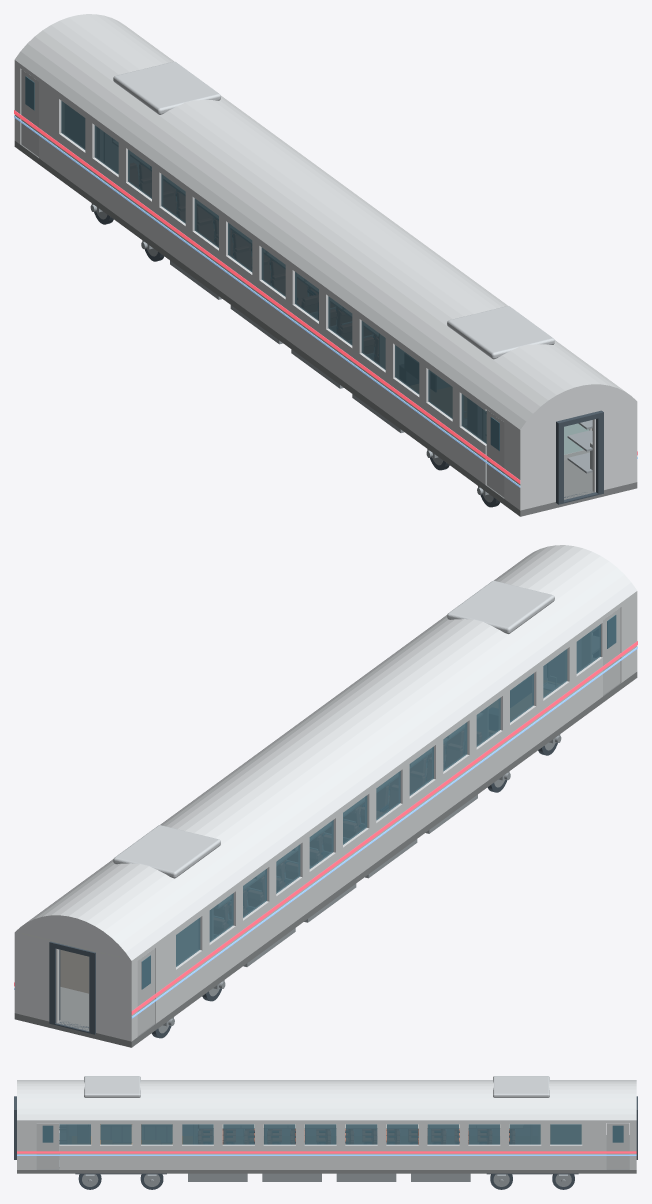
File: standard.glb
The picture shows the model from 3 angles, top to bottom: view 1: azimuth 30°, elevation 25°; view 2: azimuth 150°, elevation 25°; view 3: azimuth 270°, elevation 25°; orthographic projection. The views are drawn at different scales.
Visible parts, largest first — view 1: StandardRoofShell, StandardWallN1, StandardGlassN1, StandardEnd001, StandardFloor, StandardStripeN1, StandardHVAC, StandardHVAC001, StandardRoofEnd001, StandardGangway001, StandardDoorN1_1, StandardDoorN1_0 (+2 smaller); view 2: StandardRoofShell, StandardWallN1, StandardGlassN1, StandardEnd, StandardFloor, StandardStripeN1, StandardHVAC001, StandardHVAC, StandardRoofEnd, StandardGangway, StandardDoorN1_1, StandardDoorN1_0 (+2 smaller); view 3: StandardRoofShell, StandardWall1, StandardGlass1, StandardStripe1, StandardFloor, StandardUnderfloor, StandardHVAC001, StandardHVAC, StandardDoor1_0, StandardDoor1_1, StandardBogie1, StandardBogie0 (+1 smaller).
Boxes of the visible parts, left/top/right/bottom form: StandardRoofShell: left=14, top=14, right=636, bottom=429; StandardWallN1: left=14, top=60, right=524, bottom=510; StandardGlassN1: left=61, top=101, right=486, bottom=443; StandardEnd001: left=518, top=402, right=637, bottom=509; StandardFloor: left=14, top=141, right=637, bottom=516; StandardStripeN1: left=14, top=110, right=520, bottom=487; StandardHVAC: left=113, top=61, right=220, bottom=114; StandardHVAC001: left=447, top=306, right=554, bottom=359; StandardRoofEnd001: left=518, top=383, right=636, bottom=429; StandardGangway001: left=556, top=410, right=603, bottom=504; StandardDoorN1_1: left=486, top=410, right=504, bottom=497; StandardDoorN1_0: left=21, top=69, right=38, bottom=156; StandardRoofShell: left=15, top=545, right=637, bottom=960; StandardWallN1: left=127, top=591, right=637, bottom=1041; StandardGlassN1: left=176, top=624, right=600, bottom=966; StandardEnd: left=14, top=933, right=133, bottom=1040; StandardFloor: left=14, top=672, right=637, bottom=1047; StandardStripeN1: left=131, top=641, right=637, bottom=1018; StandardHVAC001: left=447, top=580, right=554, bottom=634; StandardHVAC: left=113, top=825, right=220, bottom=878; StandardRoofEnd: left=17, top=914, right=133, bottom=960; StandardGangway: left=49, top=941, right=95, bottom=1034; StandardDoorN1_1: left=600, top=607, right=620, bottom=695; StandardDoorN1_0: left=137, top=948, right=155, bottom=1035; StandardRoofShell: left=17, top=1080, right=636, bottom=1120; StandardWall1: left=17, top=1120, right=636, bottom=1169; StandardGlass1: left=59, top=1124, right=581, bottom=1144; StandardStripe1: left=17, top=1151, right=636, bottom=1155; StandardFloor: left=17, top=1135, right=636, bottom=1173; StandardUnderfloor: left=188, top=1173, right=470, bottom=1181; StandardHVAC001: left=84, top=1076, right=140, bottom=1097; StandardHVAC: left=493, top=1076, right=549, bottom=1097; StandardDoor1_0: left=607, top=1123, right=629, bottom=1169; StandardDoor1_1: left=36, top=1123, right=58, bottom=1169; StandardBogie1: left=75, top=1173, right=166, bottom=1189; StandardBogie0: left=487, top=1173, right=578, bottom=1189.
Bounding box in the file's own units: 3.37 × 4.25 × 25.17.
